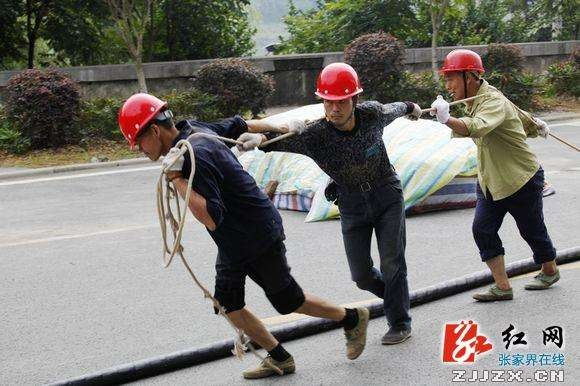red: (114, 89, 180, 160), (312, 56, 361, 128), (439, 49, 486, 102)
